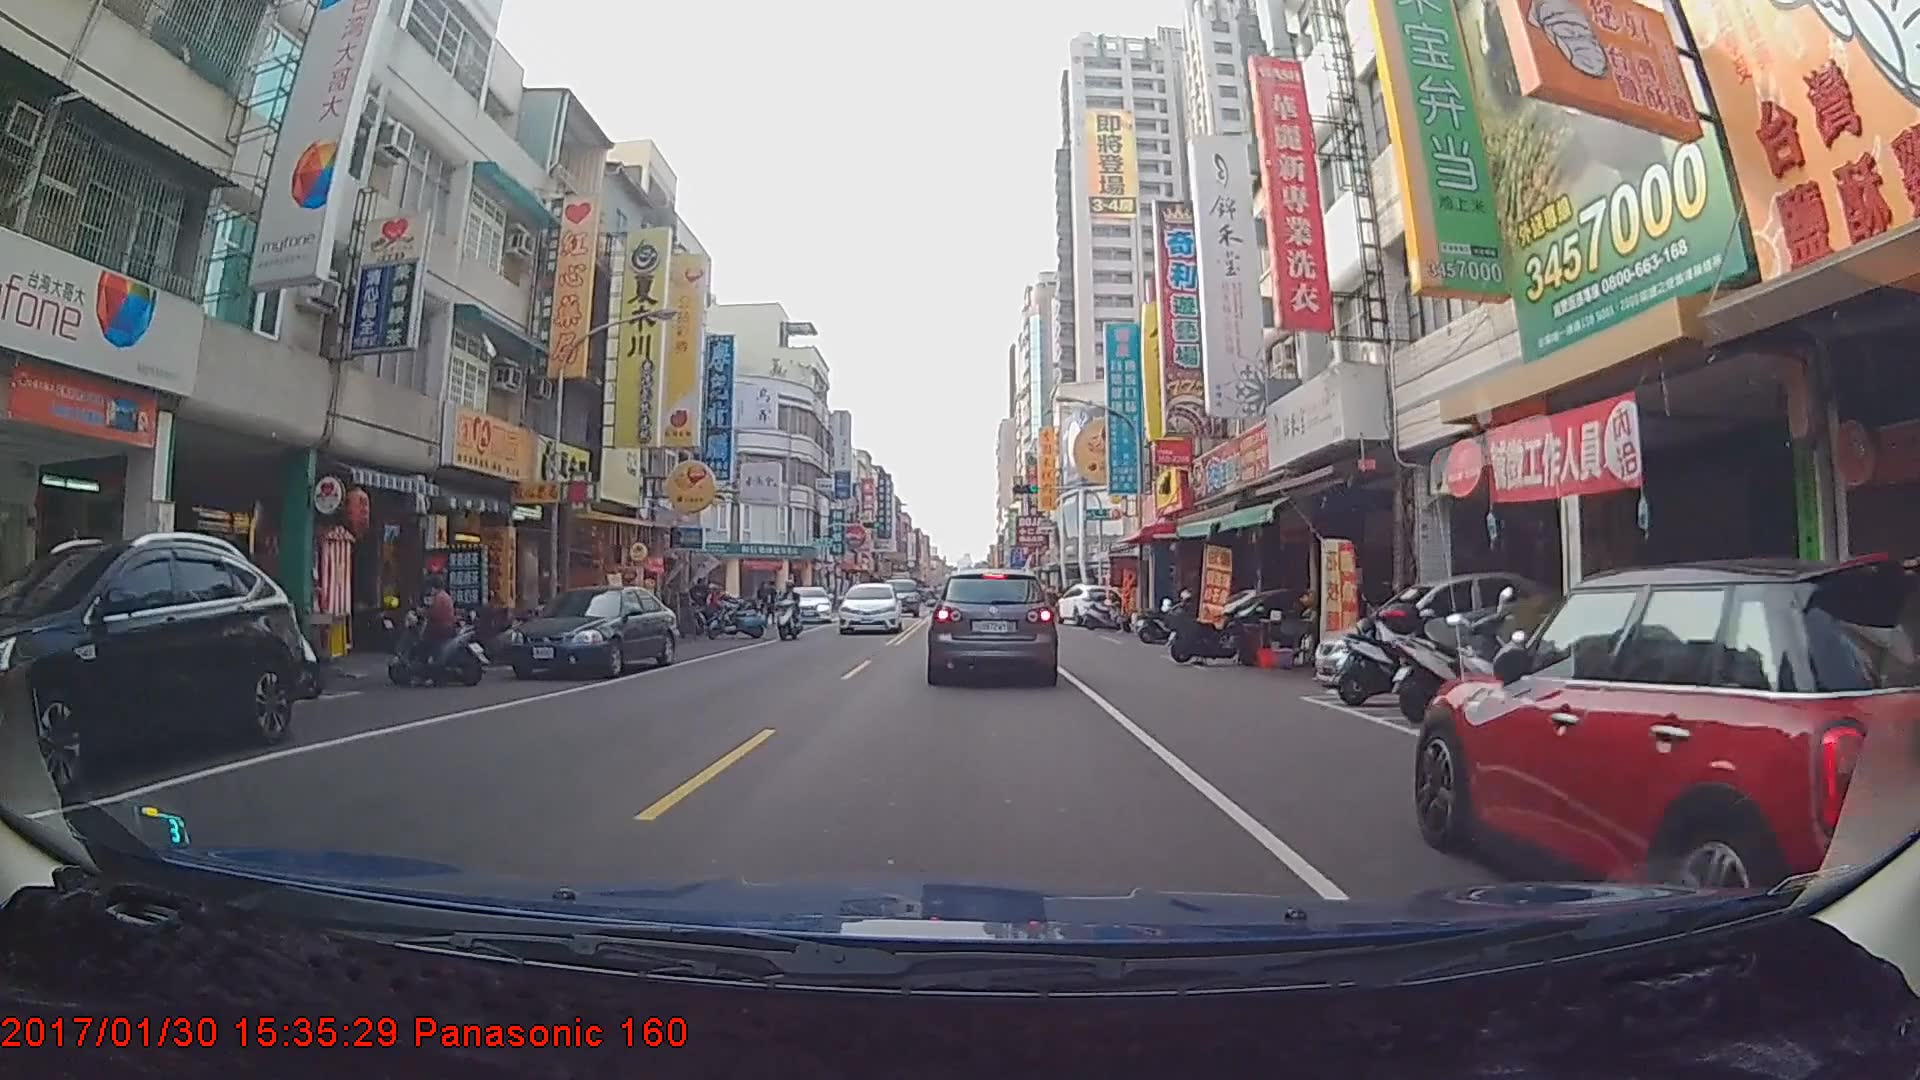rider: (381, 571, 498, 694), (773, 584, 803, 641)
vehicle: (1415, 558, 1920, 936), (0, 536, 295, 790), (504, 588, 681, 676), (928, 566, 1055, 681), (837, 581, 898, 633), (1055, 581, 1124, 627), (782, 581, 831, 620), (876, 577, 918, 617)
